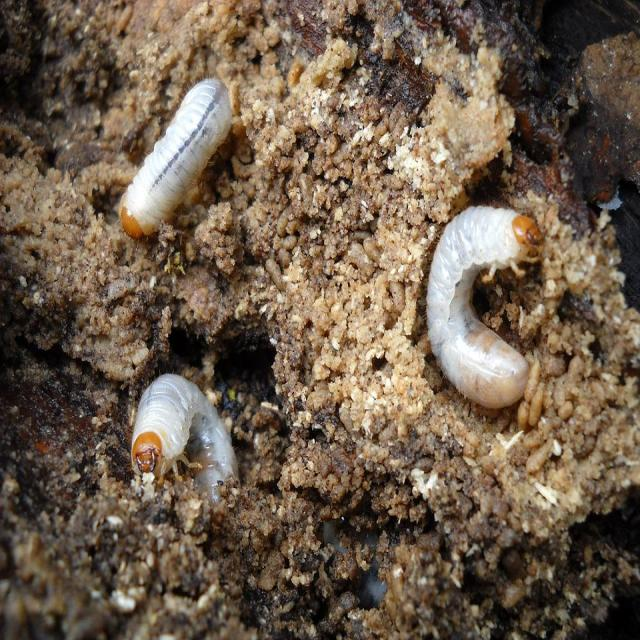Grub-Adult-: (407, 183, 554, 415), (93, 59, 235, 244), (119, 368, 258, 550)
